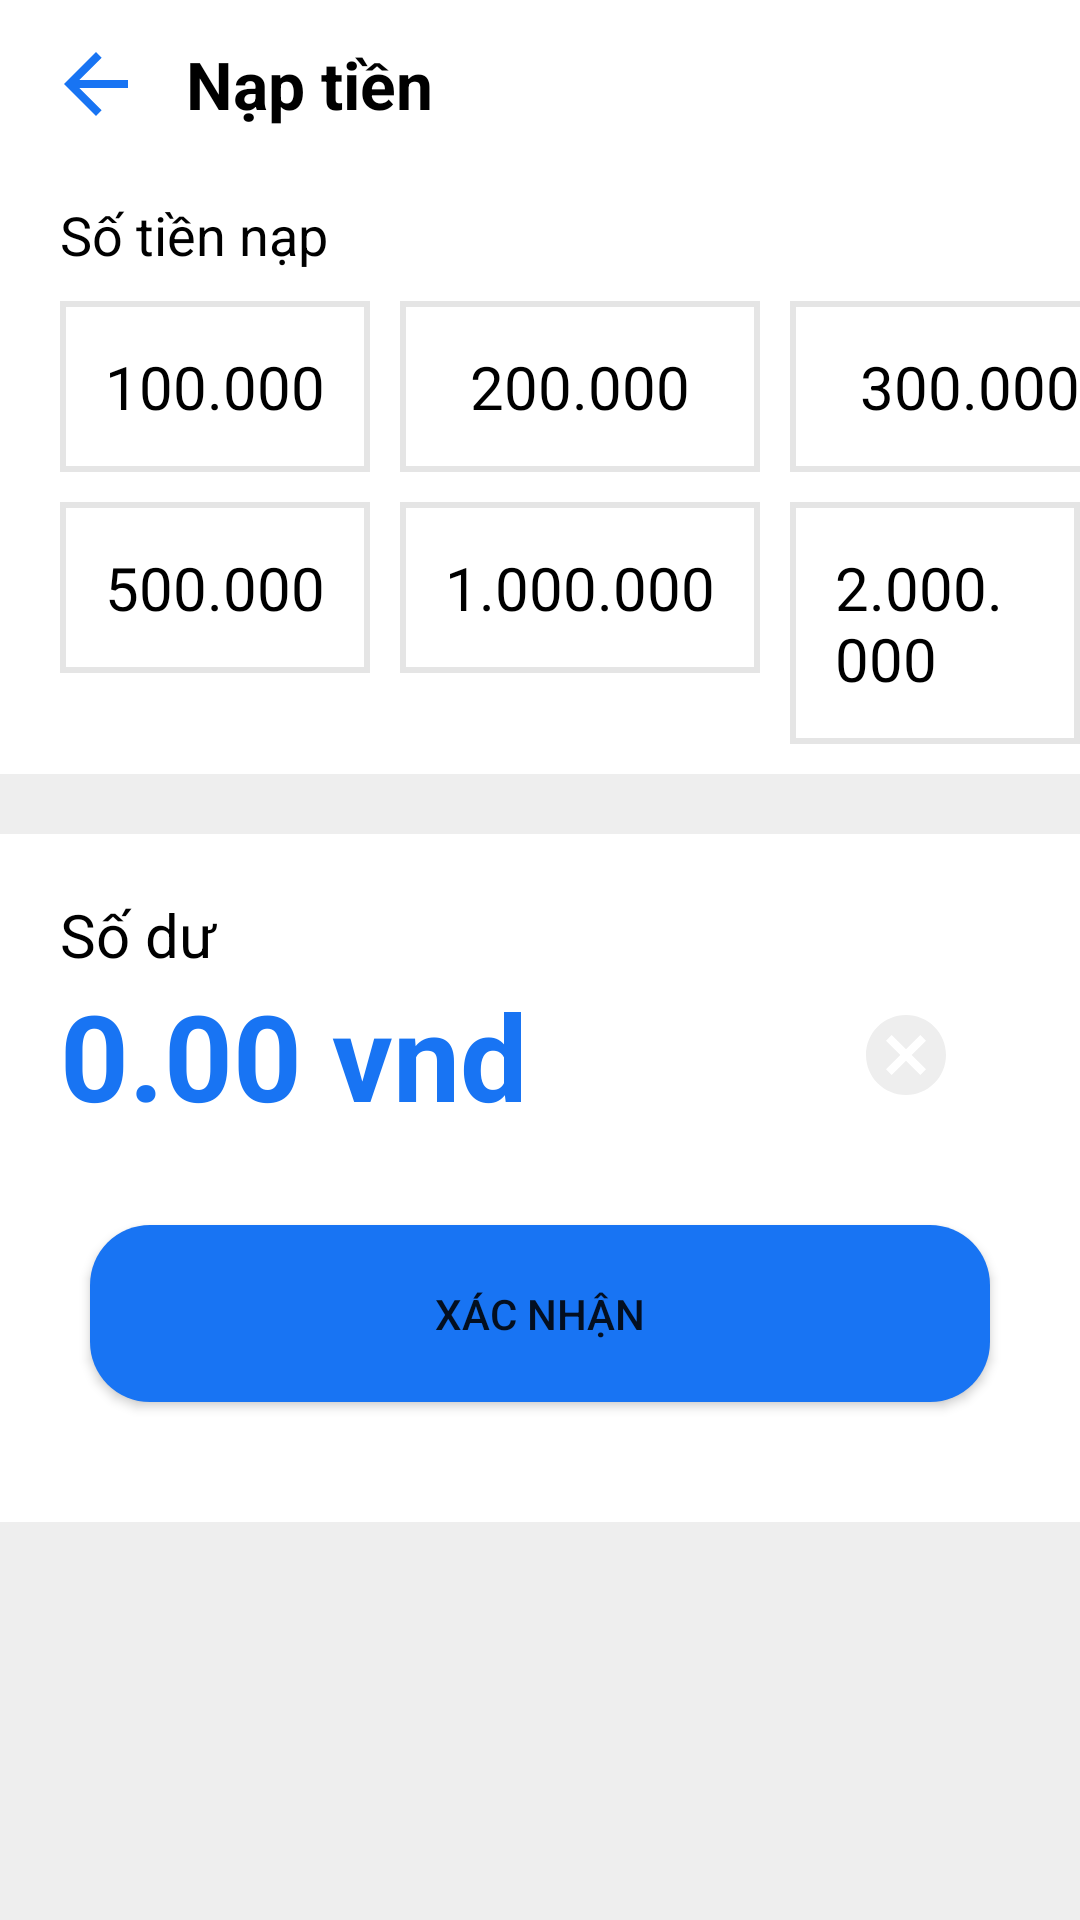

Screen size 1080px x 1920px. Icon name, then its box in pixels as region(x1, y1, x2, y2):
back: region(64, 52, 128, 116)
